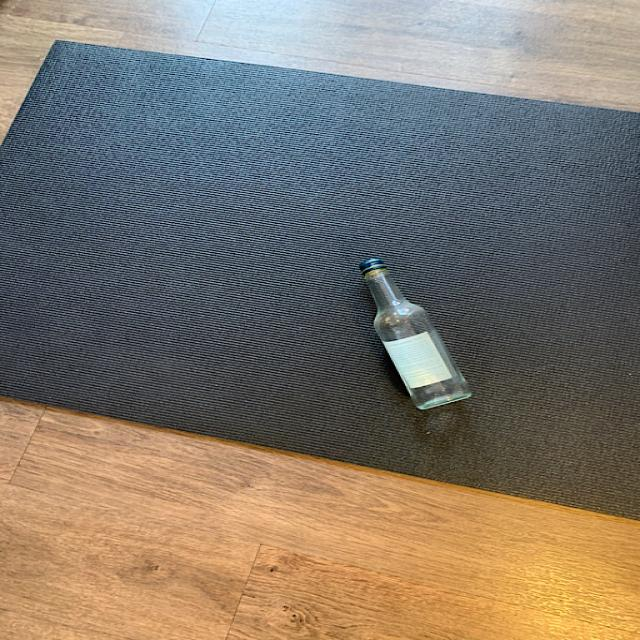litter: (358, 257, 472, 411)
